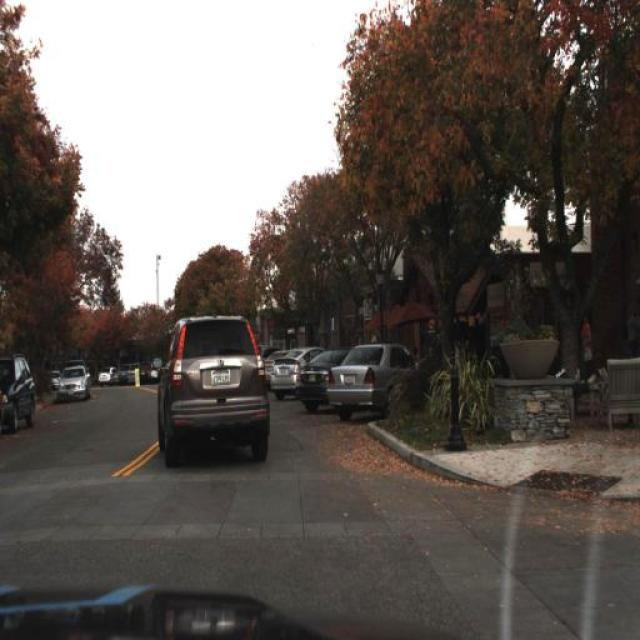car: (152, 302, 269, 472), (328, 334, 417, 411), (290, 346, 346, 410), (0, 356, 36, 432), (272, 342, 318, 398), (59, 364, 91, 400), (265, 345, 279, 386), (98, 366, 113, 386)
trafficLight: (577, 312, 595, 373), (450, 326, 466, 370)
